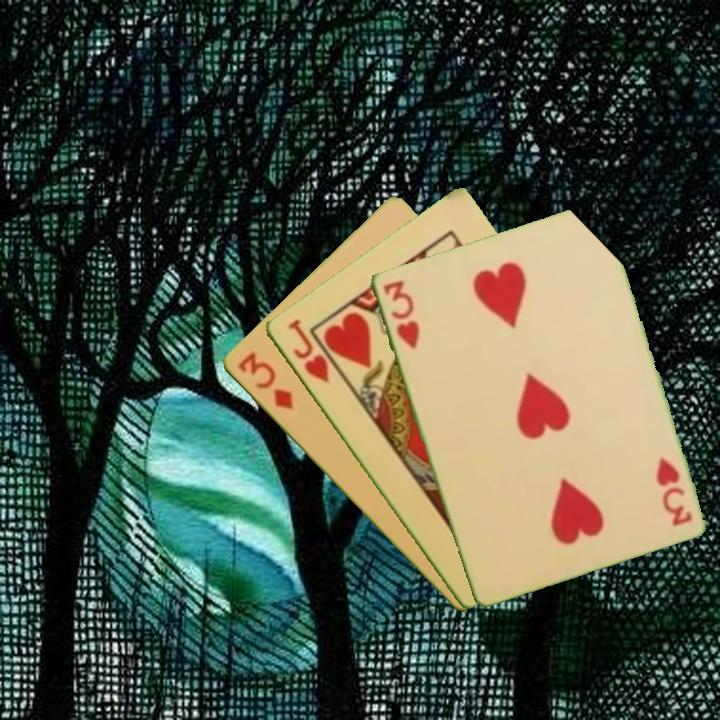3d: (233, 348, 296, 413)
3h: (379, 276, 422, 352), (652, 453, 695, 529)
Jh: (284, 315, 332, 385)
